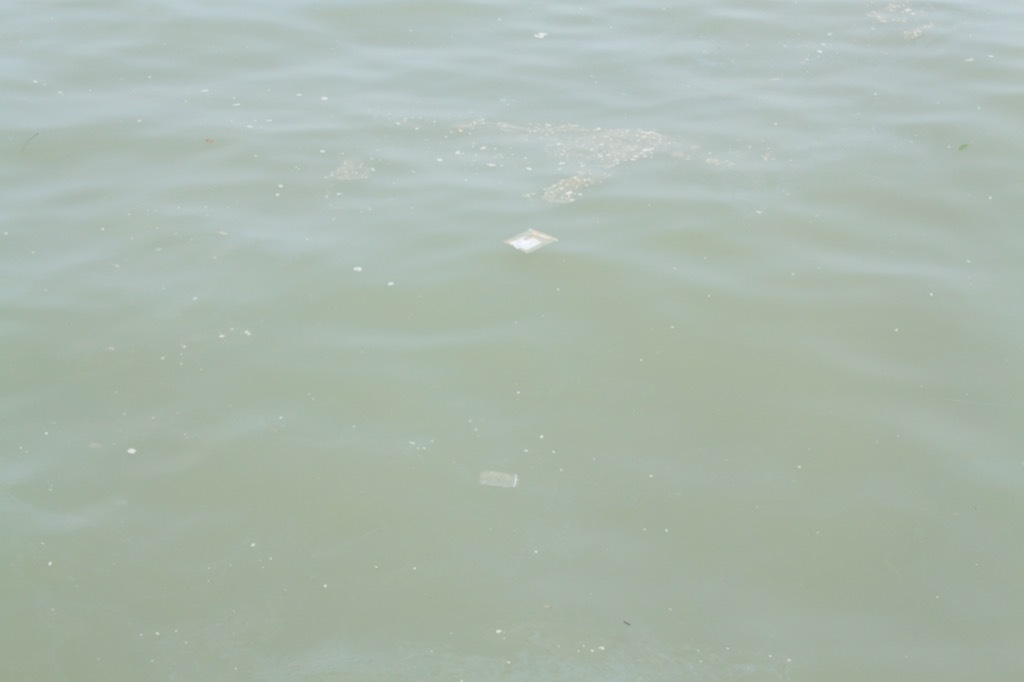organic: (15, 124, 52, 169), (953, 132, 975, 162)
plastic: (498, 220, 571, 259), (470, 455, 530, 501)
